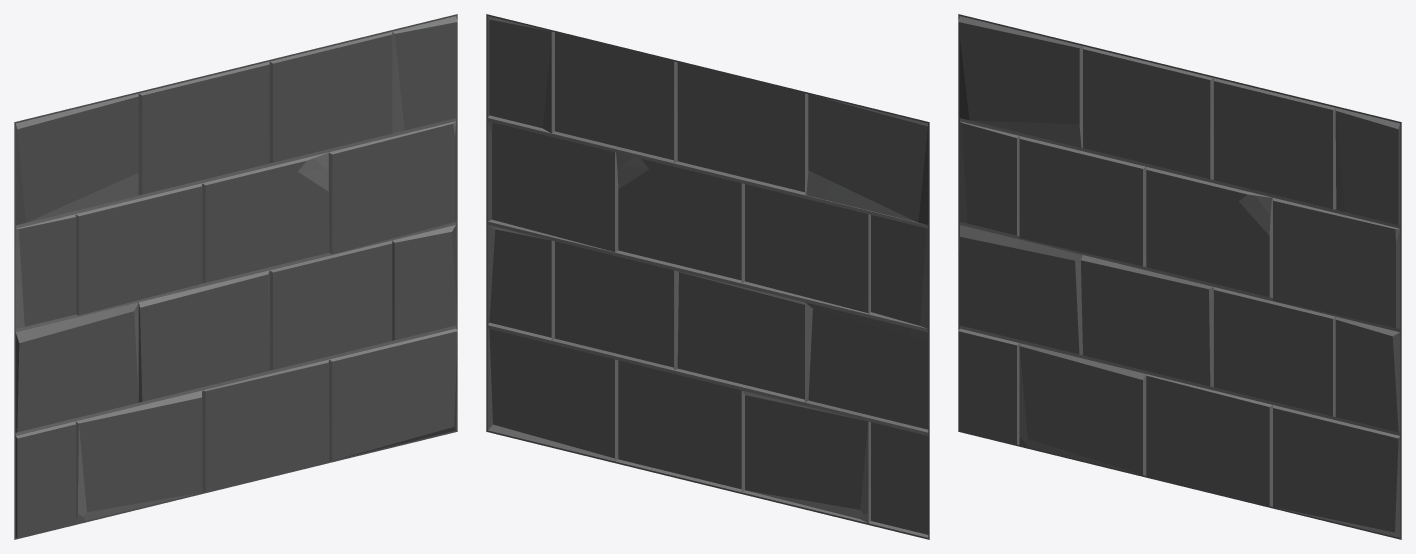
Rendered from Wall_01.fbx.
3 renders of one model, left to right at view 1: azimuth 30°, elevation 25°; view 2: azimuth 150°, elevation 25°; view 3: azimuth 330°, elevation 25°, orthographic.
Visible parts, largest first — view 1: Wall_01; view 2: Wall_01; view 3: Wall_01.
Boxes of the visible parts, x1,y1,x2,y2 form: Wall_01: (14, 14, 457, 539); Wall_01: (486, 14, 929, 539); Wall_01: (958, 14, 1401, 539).
Size of the model in its own units: 280 by 252 by 1.76.
